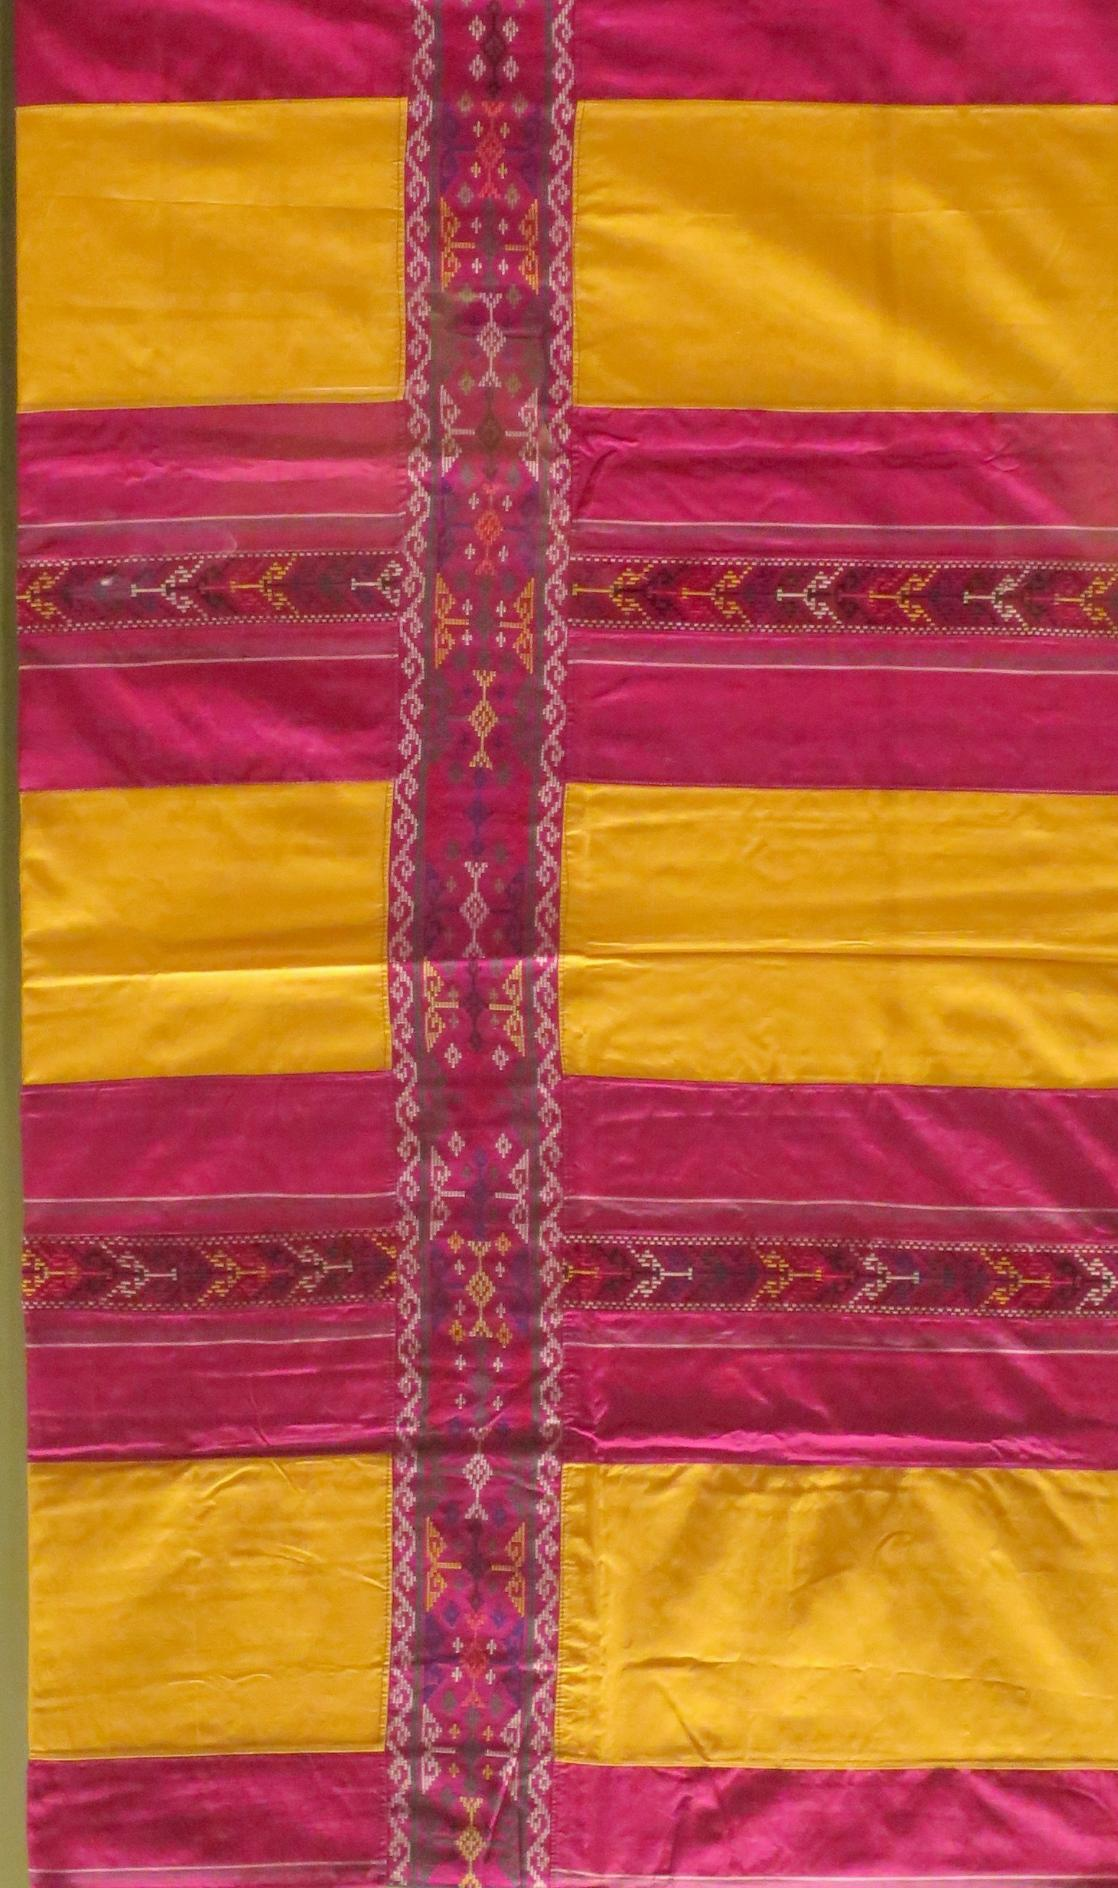malong: (4, 0, 1118, 1888)
